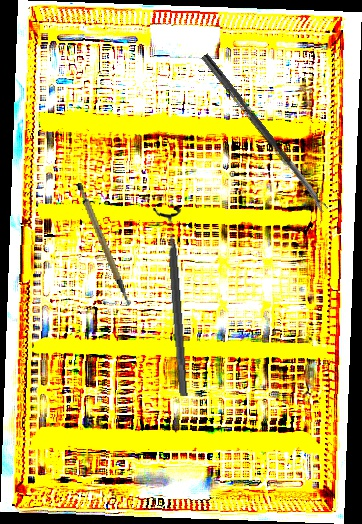Fixation Ring: (152, 205, 198, 398)
Scalpel Handle: (74, 178, 131, 312)
Surgical Spoon: (200, 53, 329, 214)
